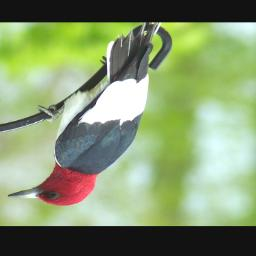Woodpecker: (4, 23, 166, 207)
